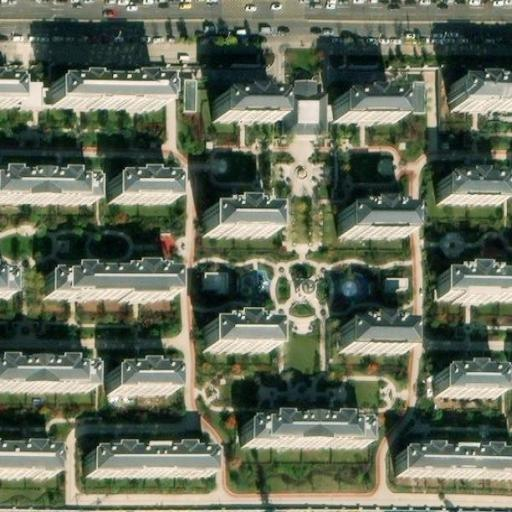building: (46, 263, 180, 298), (87, 445, 212, 475), (245, 416, 368, 443), (56, 74, 168, 102), (399, 447, 512, 474), (346, 315, 414, 349), (339, 207, 407, 240), (209, 315, 280, 346), (210, 199, 279, 230), (443, 267, 512, 297), (440, 363, 504, 395), (289, 83, 328, 135), (113, 362, 177, 392), (444, 171, 508, 201), (222, 87, 283, 118), (114, 170, 176, 200), (343, 89, 404, 118), (458, 76, 512, 106), (17, 77, 56, 101), (177, 76, 199, 114), (0, 260, 21, 299), (200, 270, 230, 294), (382, 275, 409, 298)
